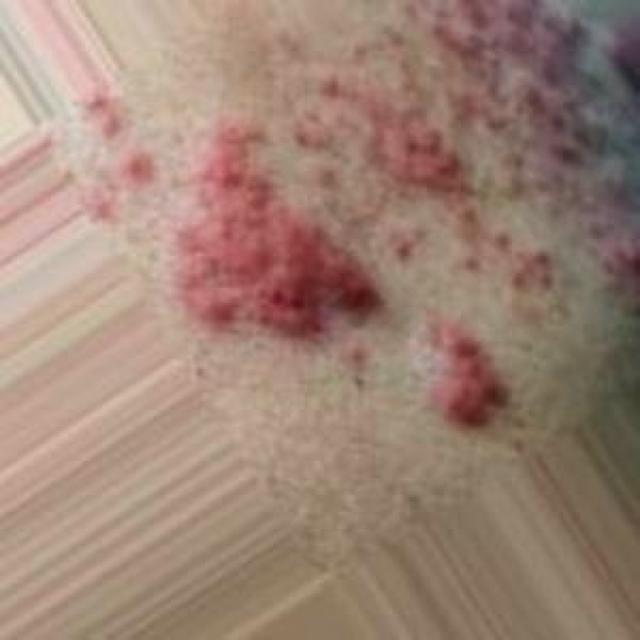Shingles: (80, 2, 640, 427)
